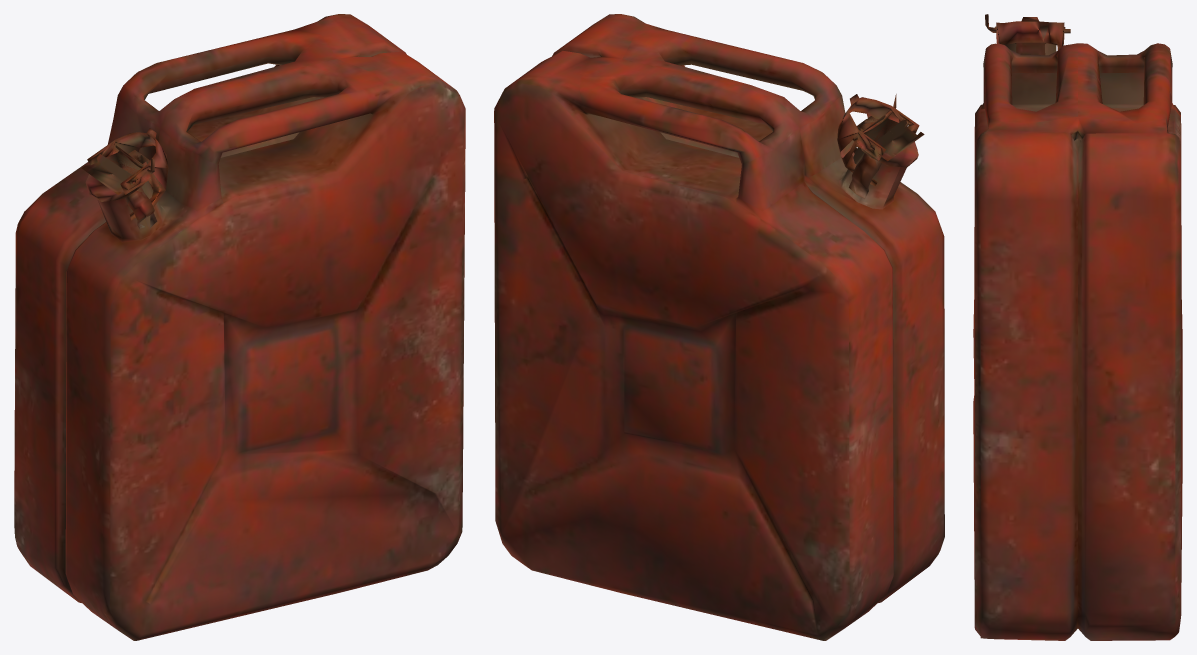
Rendered from metal_jerrycan.gltf.
3 renders of one model, left to right at view 1: azimuth 30°, elevation 25°; view 2: azimuth 150°, elevation 25°; view 3: azimuth 270°, elevation 25°, orthographic. The views are drawn at different scales.
Parts seen in each view (by area): view 1: metal_jerrycan; view 2: metal_jerrycan; view 3: metal_jerrycan.
Part boxes in pixels (box(x1,y1,x2,y2)): metal_jerrycan: box(14, 14, 465, 640); metal_jerrycan: box(494, 14, 944, 640); metal_jerrycan: box(973, 14, 1182, 640).
Size of the model in its own units: 0.3497 by 0.4549 by 0.1717.
1 material, 1 textured.
